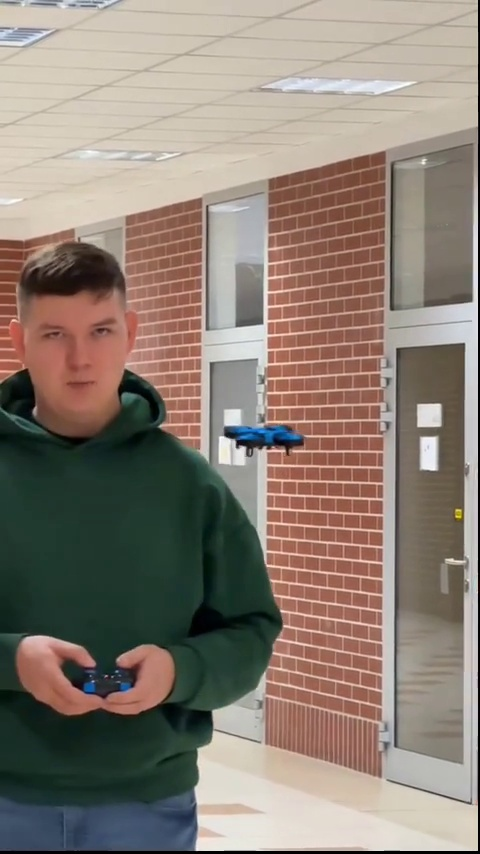drone: (228, 420, 301, 453)
no vest: (3, 239, 285, 850)
